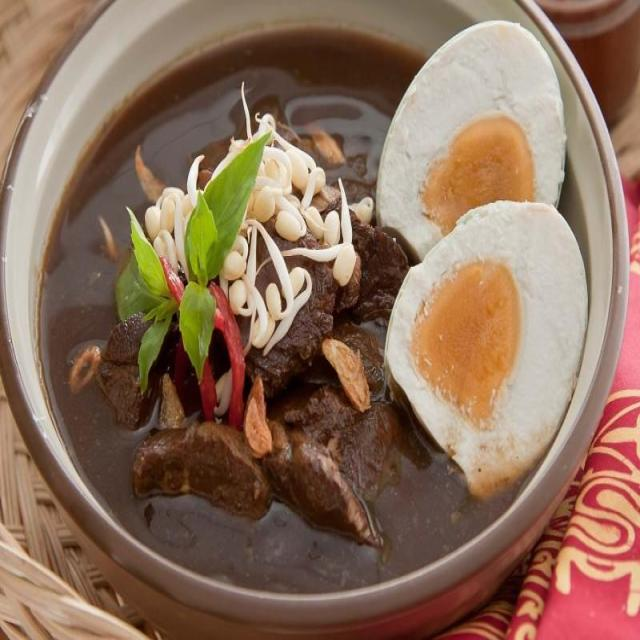Rawon: (39, 32, 567, 564)
